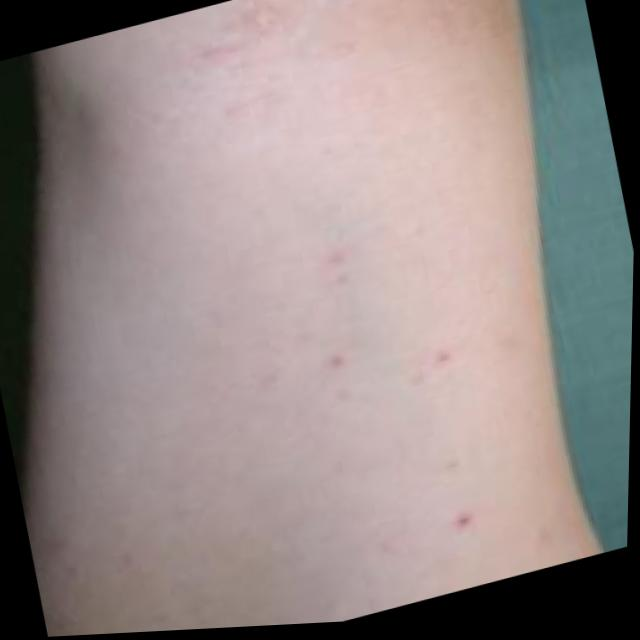Eczema: (155, 0, 316, 108), (414, 327, 491, 381), (324, 350, 355, 373), (328, 248, 356, 272), (454, 507, 473, 527)
